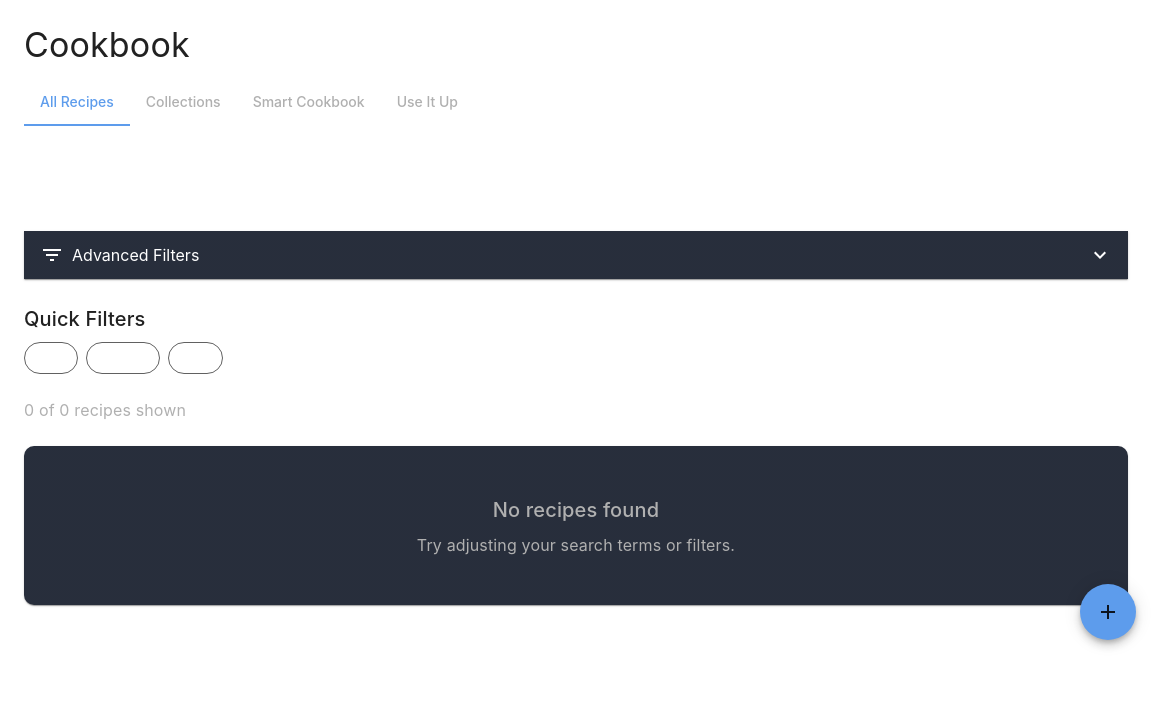
Scenario: Cookbook page › Use It Up tab › shows an empty state when expiring items exist but no recipes use them
The width and height of the screenshot is (1152, 720).
Click the tab with test id "cookbook-tab-use-it-up" at (427, 102), box [381,78,474,126]
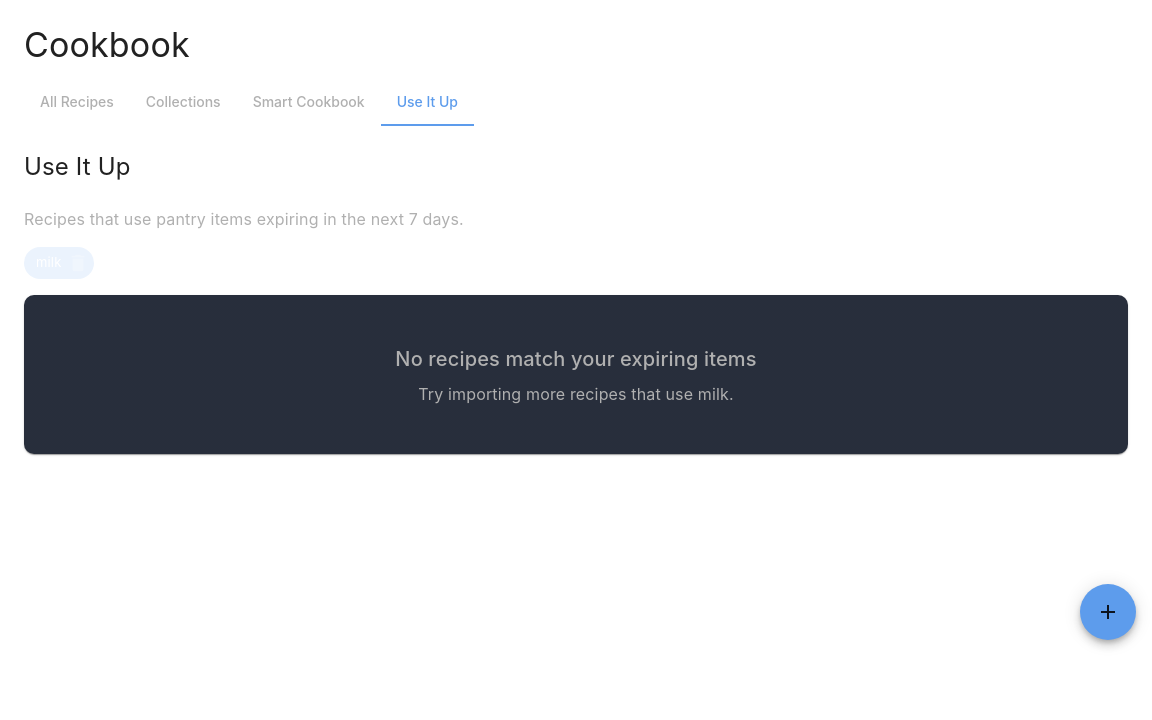
Expected: the element with test id "cookbookPage-useItUp-text-noMatches" shows "No recipes", [395,347,757,371]
